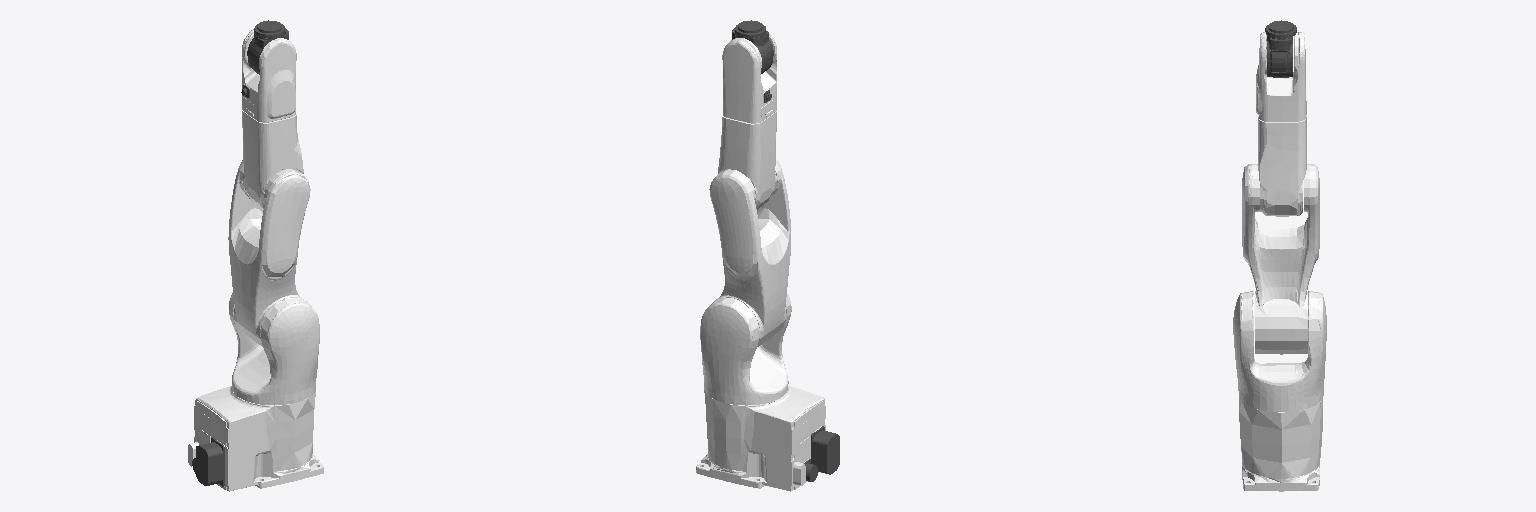
The robot description file, URDF, robot "6_axis_arm":
<?xml version="1.0"?>
<robot name="6_axis_arm">
	<link name="base_link">
		<visual>
			<geometry>
				<mesh filename="package://ros_learning/meshes/base_link_6.dae"/>
			</geometry>
		</visual>
	</link>
	<link name="link_1">
		<visual>
			<geometry>
				<mesh filename="package://ros_learning/meshes/link1_6.dae"/>
			</geometry>
		</visual>
	</link>
	<link name="link_2">
		<visual>
			<geometry>
				<mesh filename="package://ros_learning/meshes/link2_6.dae"/>
			</geometry>
		</visual>
	</link>
	<link name="link_3">
		<visual>
			<geometry>
				<mesh filename="package://ros_learning/meshes/link3_6.dae"/>
			</geometry>
		</visual>
	</link>
	<link name="link_4">
		<visual>
			<geometry>
				<mesh filename="package://ros_learning/meshes/link4_6.dae"/>
			</geometry>
		</visual>
	</link>
	<link name="link_5">
		<visual>
			<geometry>
				<mesh filename="package://ros_learning/meshes/link5_6.dae"/>
            </geometry>      
        </visual>
    </link>
    <link name="link_6">
    	<visual>
    		<geometry>
    			<mesh filename="package://ros_learning/meshes/link6_6.dae"/>
            </geometry>      
        </visual>
    </link>
    <link name="tool" />
    <joint name="joint_1" type="revolute">
    	<parent link="base_link" />
    	<child link="link_1" />
    	<origin rpy="0.000000 0.000000 0.000000" xyz="0.000000 0.000000 0.181500" />
    	<axis xyz="0.000000 0.000000 1.000000" />
    	<limit effort="300" lower="-1.57" upper="1.57" velocity="0.1" />
    </joint>
    <joint name="joint_2" type="revolute">
		<parent link="link_1" />
		<child link="link_2" />
		<origin rpy="0.000000 0.000000 0.000000" xyz="0.000000 0.000000 0.163500" />
		<axis xyz="0.000000 1.000000 0.000000" />
		<limit effort="300" lower="-1.57" upper="1.57" velocity="0.1" />
	</joint>
	<joint name="joint_3" type="revolute">
		<parent link="link_2" />
		<child link="link_3" />
		<origin rpy="0.000000 0.000000 0.000000" xyz="0.000000 0.000000 0.305000" />
		<axis xyz="0.000000 1.000000 0.000000" />
		<limit effort="300" lower="-1" upper="1" velocity="0.1" />
	</joint>
	<joint name="joint_4" type="revolute">
		<parent link="link_3" />
		<child link="link_4" />
		<origin rpy="0.000000 0.000000 0.000000" xyz="-0.010000 0.000000 0.164500" />
		<axis xyz="0.000000 0.000000 1.000000" />
		<limit effort="300" lower="-1.57" upper="1.57" velocity="0.1" />
	</joint>
	<joint name="joint_5" type="revolute">
		<parent link="link_4" />
		<child link="link_5" />
		<origin rpy="0.000000 0.000000 0.000000" xyz="0.000000 0.000000 0.135500" />
		<axis xyz="0.000000 1.000000 0.000000" />
		<limit effort="300" lower="-1.57" upper="1.57" velocity="0.1" />
	</joint>
	<joint name="joint_6" type="revolute">
		<parent link="link_5" />
		<child link="link_6" />
		<origin rpy="0.000000 0.000000 0.000000" xyz="0.000000 0.000000 0.070000" />
		<axis xyz="0.000000 0.000000 1.000000" />
		<limit effort="300" lower="-1.57" upper="1.57" velocity="0.1" />
	</joint>
	<joint name="tool_to_link6" type="fixed">
		<parent link="link_6"/>
		<child link="tool"/>
		<origin xyz="0 0 0"/>
    </joint>
</robot>

--- What the picture shows (computed from the rendered views, not written in the file) ---
Views: 3 orthographic renders of the robot side by side, from view 1: azimuth 30°, elevation 25°; view 2: azimuth 150°, elevation 25°; view 3: azimuth 270°, elevation 25°.
Model 6_axis_arm with 8 links and 7 joints (6 revolute, 1 fixed), rooted at base_link, posed all joints at 0.
Visible links, largest first — view 1: base_link, link_2, link_1, link_4, link_3, link_5; view 2: base_link, link_2, link_1, link_4, link_3, link_5; view 3: link_2, base_link, link_1, link_3, link_4, link_5.
Boxes of the visible links, <box> form: base_link: <box>188,386,323,491</box>; link_2: <box>228,160,310,346</box>; link_1: <box>229,293,319,405</box>; link_4: <box>241,29,296,122</box>; link_3: <box>242,110,303,209</box>; link_5: <box>247,20,288,74</box>; base_link: <box>696,385,839,491</box>; link_2: <box>709,159,790,346</box>; link_1: <box>700,293,791,405</box>; link_4: <box>722,30,776,123</box>; link_3: <box>718,111,777,209</box>; link_5: <box>732,20,773,73</box>; link_2: <box>1242,164,1319,354</box>; base_link: <box>1239,397,1322,491</box>; link_1: <box>1233,291,1326,411</box>; link_3: <box>1258,115,1306,216</box>; link_4: <box>1256,32,1306,121</box>; link_5: <box>1265,20,1296,77</box>.
Bounding box of the posed robot: 0.278 × 0.1922 × 1.01 m (x, y, z).
Meshes: 7 distinct files referenced, 6 mesh visuals loaded (6 Collada DAE); not drawn: 1 (file found but could not be loaded).